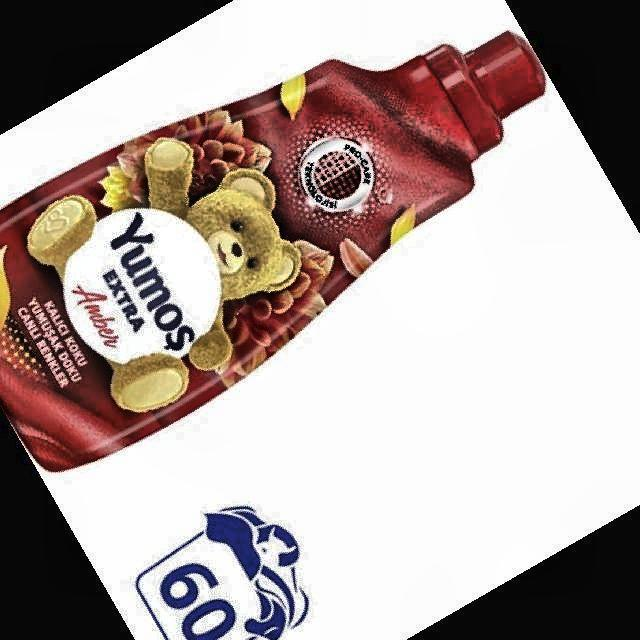plastic: (0, 32, 543, 470)
